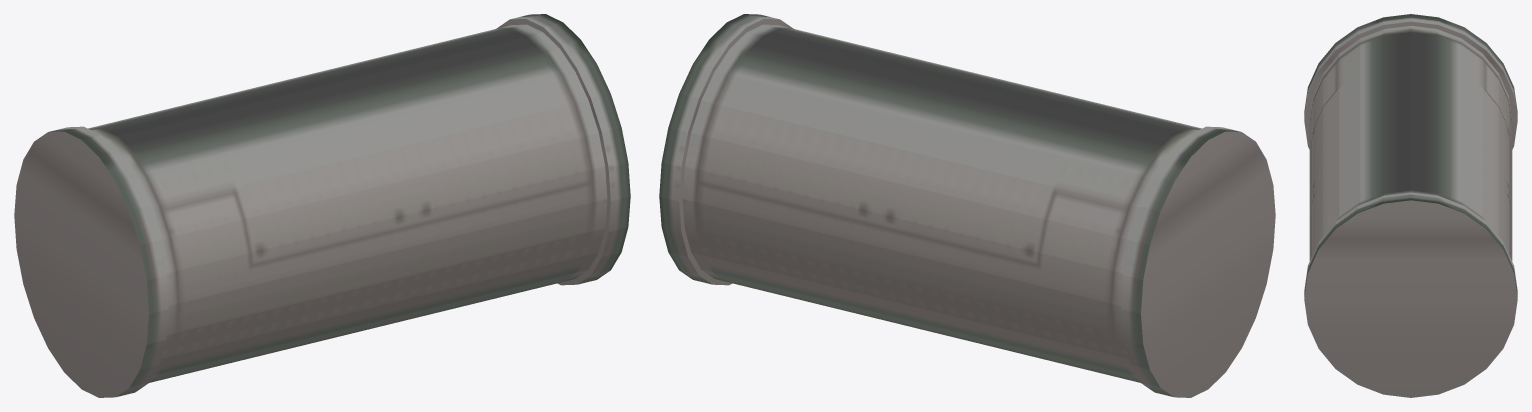
File: Building_AncientStorageCylinder.glb
3 views of the same model, side by side, from view 1: azimuth 30°, elevation 25°; view 2: azimuth 150°, elevation 25°; view 3: azimuth 270°, elevation 25° (orthographic). The views are drawn at different scales.
Parts seen in each view (by area): view 1: AncientStorageCylinder; view 2: AncientStorageCylinder; view 3: AncientStorageCylinder.
Boxes of the visible parts, x1,y1,x2,y2 form: AncientStorageCylinder: [14, 14, 630, 397]; AncientStorageCylinder: [659, 14, 1275, 397]; AncientStorageCylinder: [1304, 14, 1517, 397].
Bounding box in the file's own units: 1.94 × 0.96 × 0.94.
Materials: 1 (1 with a texture image).
